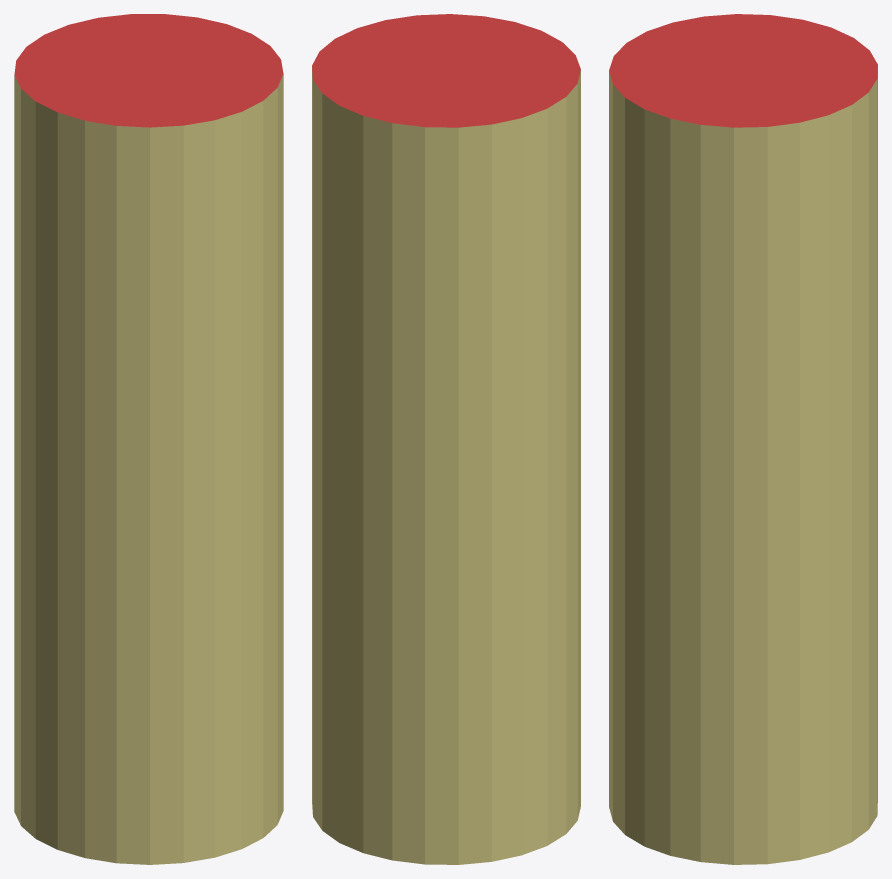
The picture shows the model from 3 angles, left to right: view 1: azimuth 30°, elevation 25°; view 2: azimuth 150°, elevation 25°; view 3: azimuth 270°, elevation 25°; orthographic projection.
Size of the model in its own units: 4.67 by 4.67 by 14.13.
